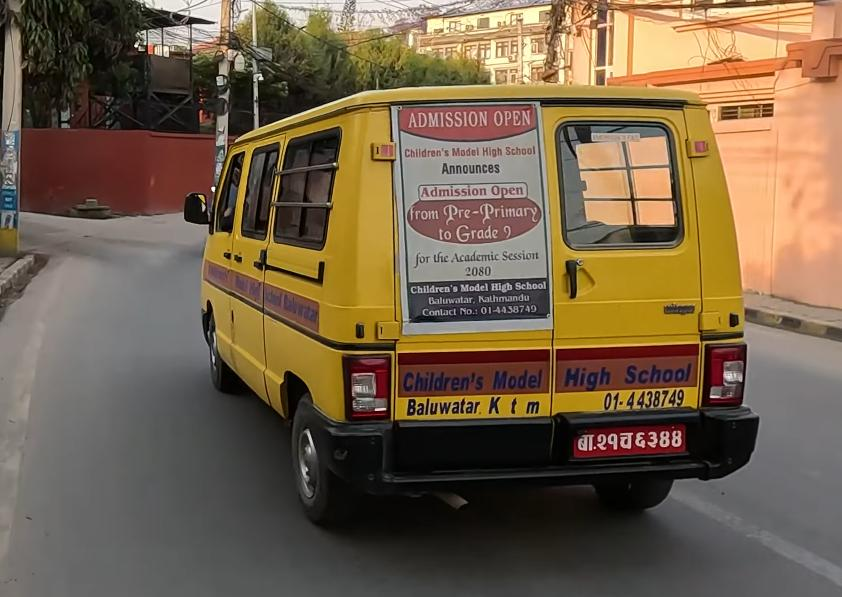school_bus: (174, 76, 765, 522)
